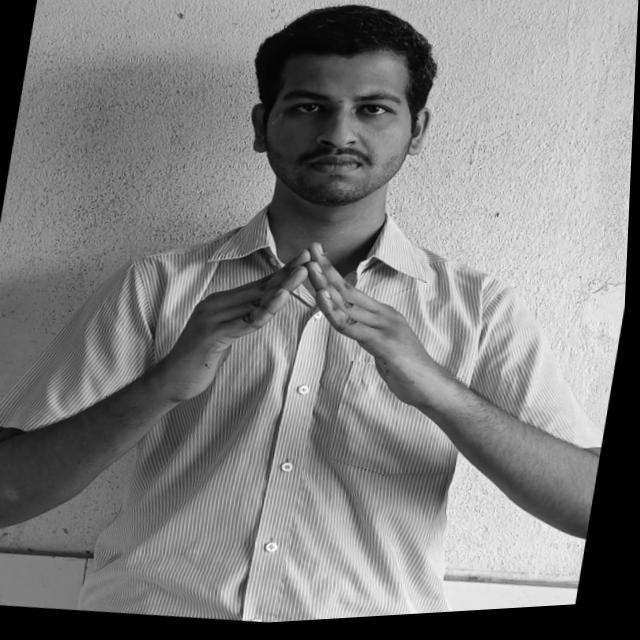Home: (155, 221, 455, 433)
